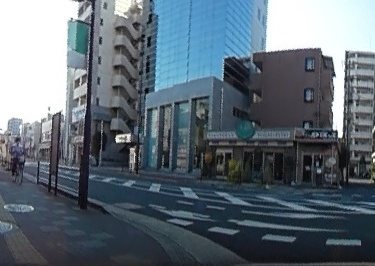person: (11, 136, 22, 177)
